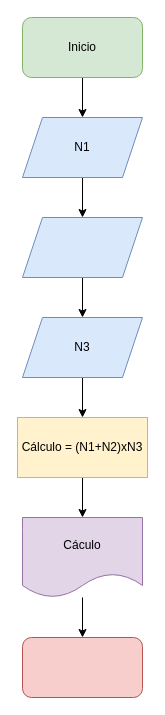
The diagram is 165 pixels wide and 715 high, and some of its shapes have lost their labels. The shapes that lost their labels are listed below. From the top down, each one's centre as x and y in pixels, then its label:
point (82, 247): N2
point (82, 667): Fim
